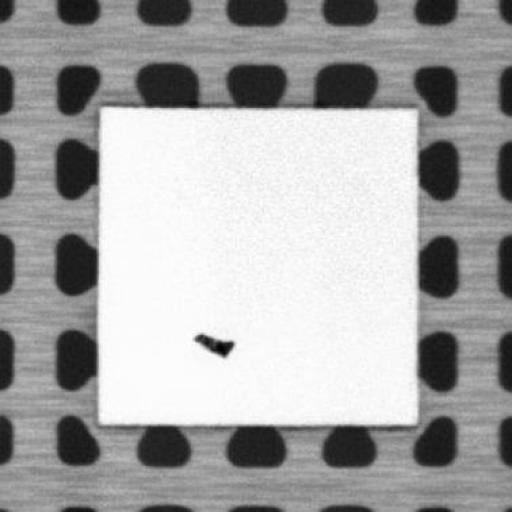DIE_INK: (190, 330, 233, 358)
